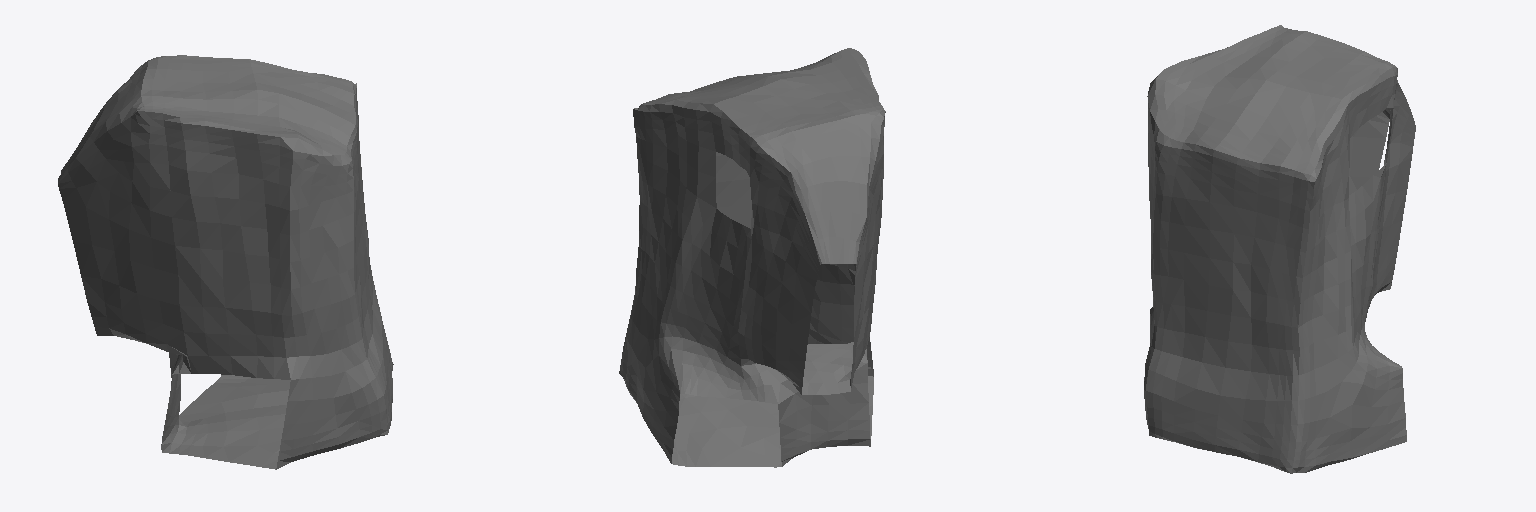
File: Env_1v3_WIPE.obj
3 renders of one model, left to right at view 1: azimuth 30°, elevation 25°; view 2: azimuth 150°, elevation 25°; view 3: azimuth 270°, elevation 25°, orthographic.
Parts seen in each view (by area): view 1: Env_1v3_WIP3:Group26728; view 2: Env_1v3_WIP3:Group26728; view 3: Env_1v3_WIP3:Group26728.
Boxes of the visible parts, x1=… form: Env_1v3_WIP3:Group26728: x1=58, y1=55, x2=393, y2=469; Env_1v3_WIP3:Group26728: x1=619, y1=48, x2=885, y2=467; Env_1v3_WIP3:Group26728: x1=1144, y1=25, x2=1415, y2=473.
Size of the model in its own units: 75.78 by 88.65 by 62.31.